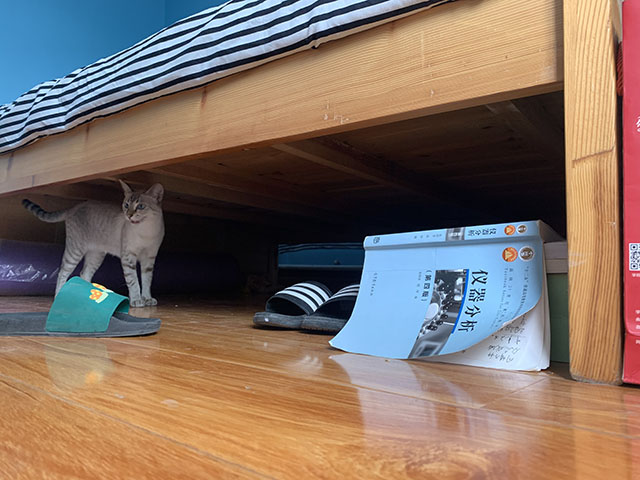bed: (1, 1, 625, 388)
book: (326, 218, 564, 373)
slippers: (1, 275, 162, 338), (251, 276, 330, 336)
